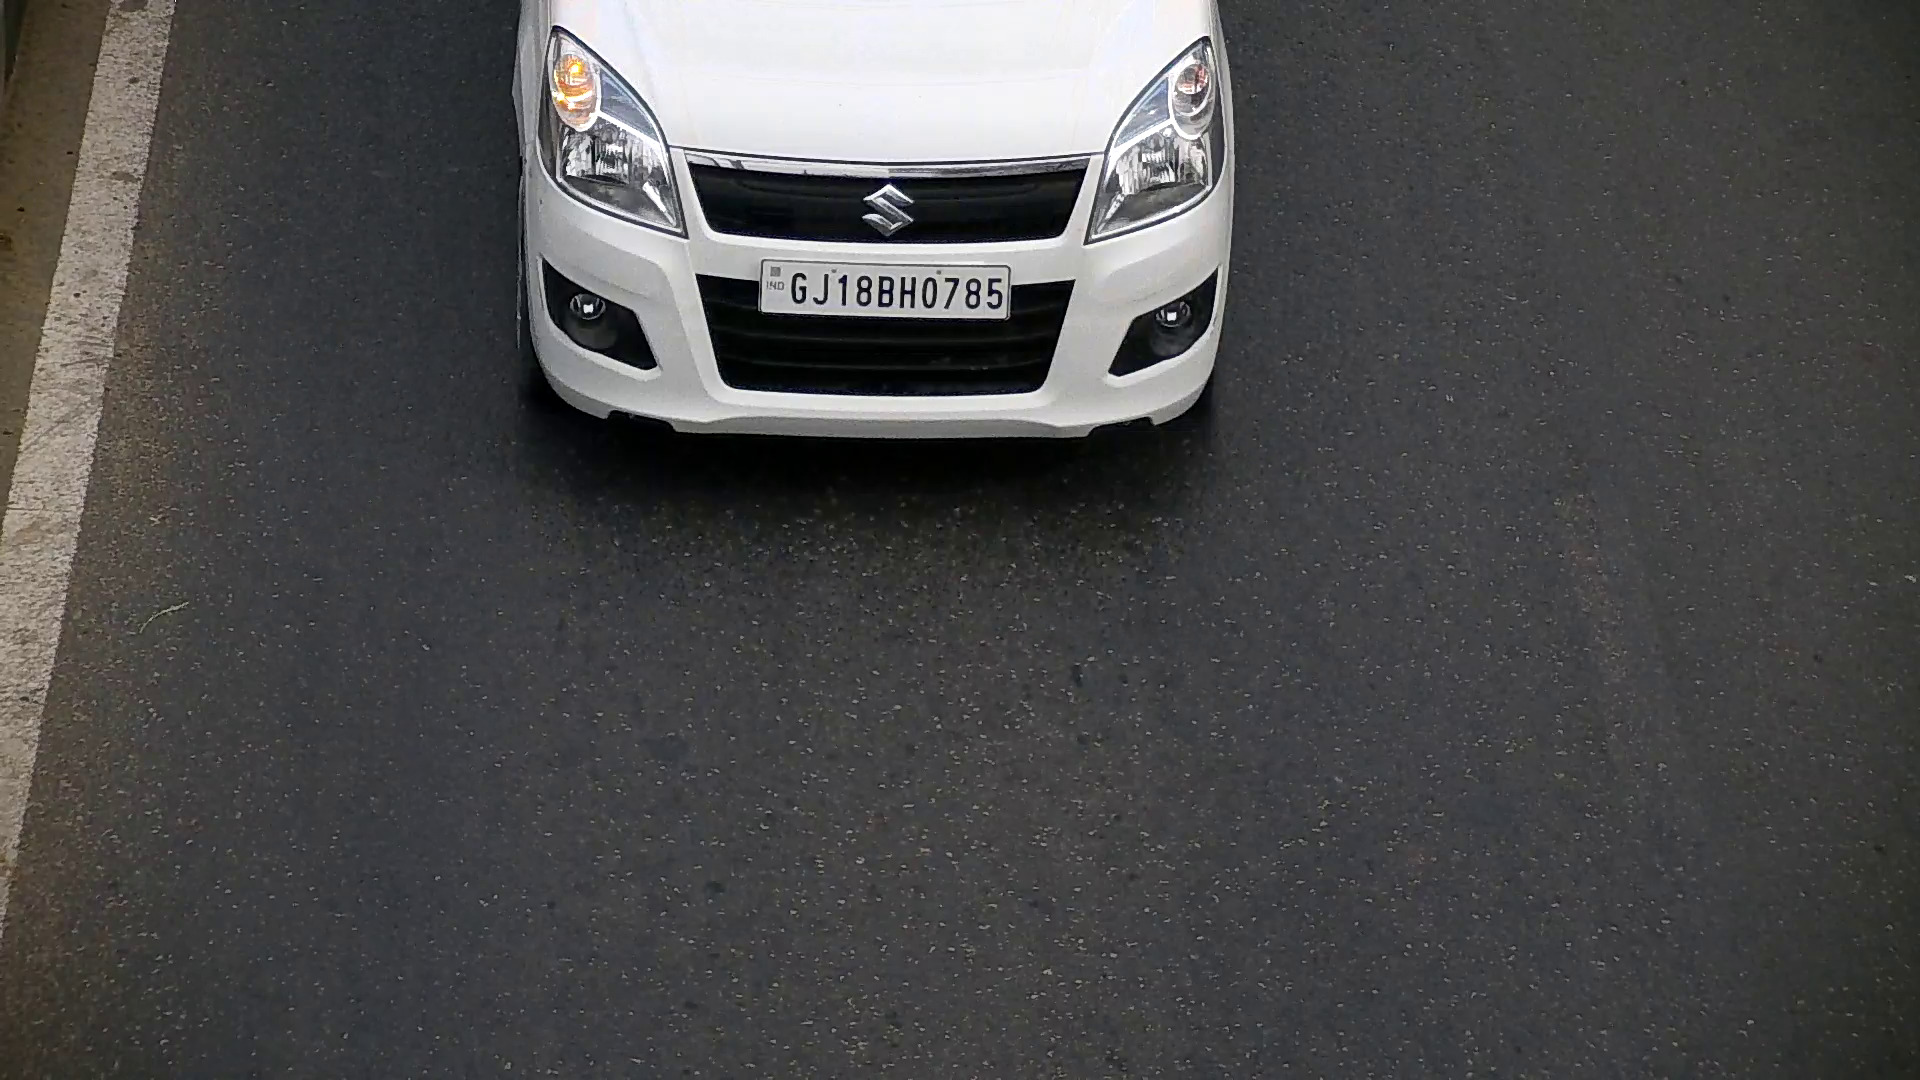numberplate: (754, 256, 1011, 321)
